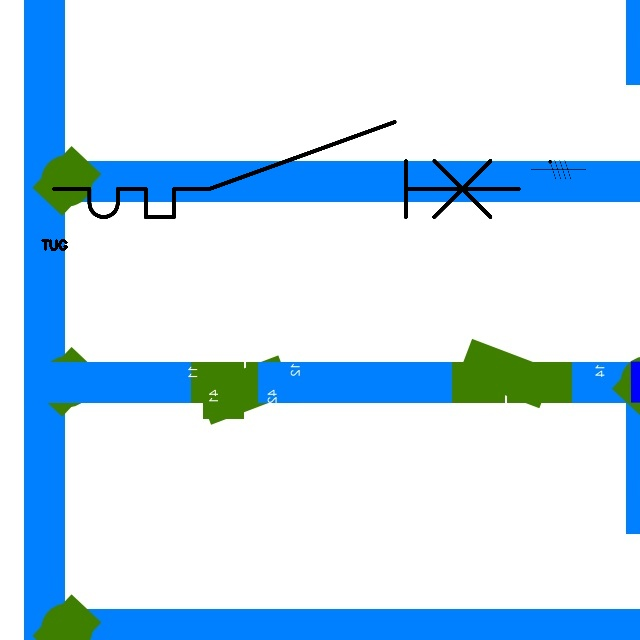interruptor_termomagnetico: (42, 110, 530, 229)
